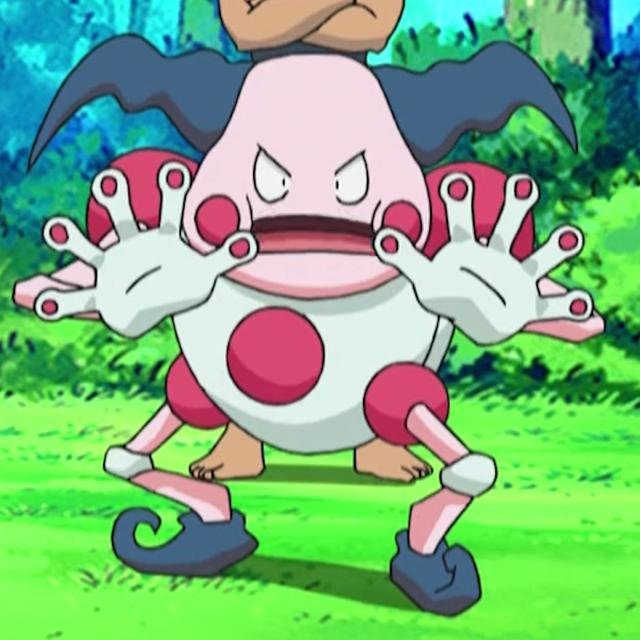MrMime: (107, 37, 514, 597)
